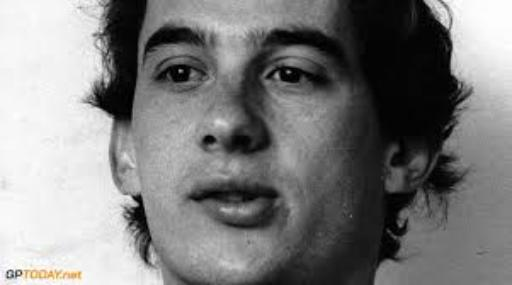left_eye: (266, 67, 325, 88)
left_lip_corner: (268, 190, 299, 208)
right_eye: (154, 65, 210, 87)
right_lip_corner: (186, 186, 210, 209)
